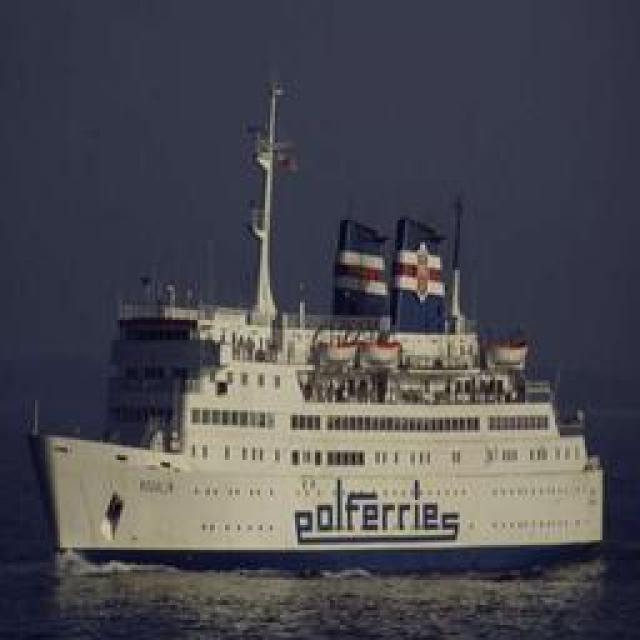Ship: (19, 74, 629, 584)
